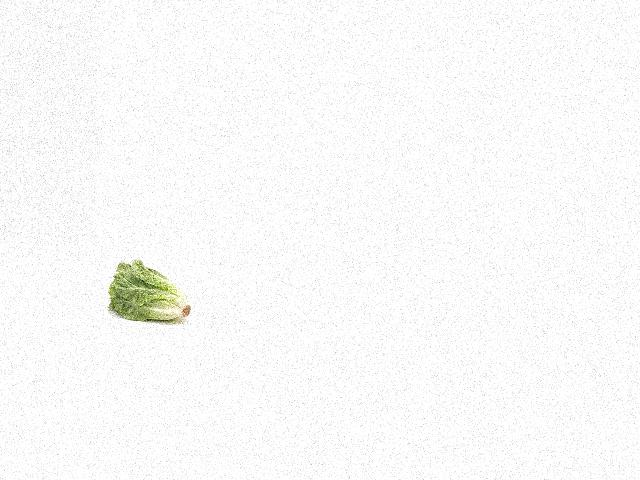lettuce: (108, 259, 194, 323)
